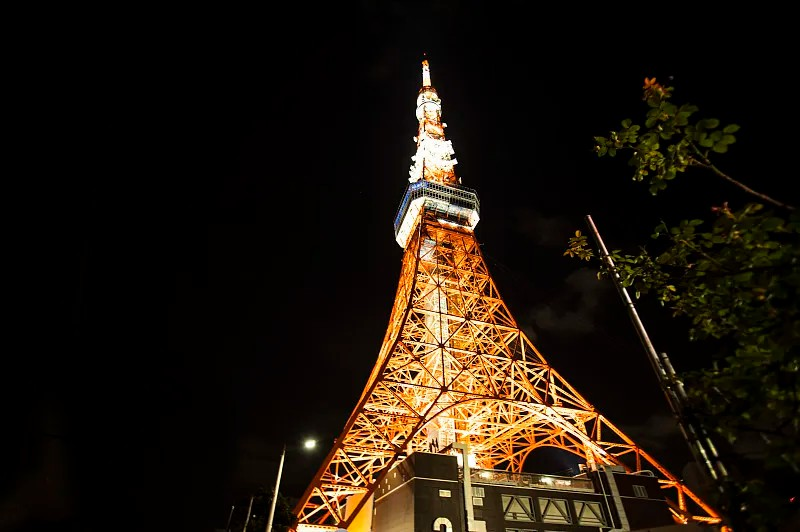Tokyo: (285, 48, 732, 532)
